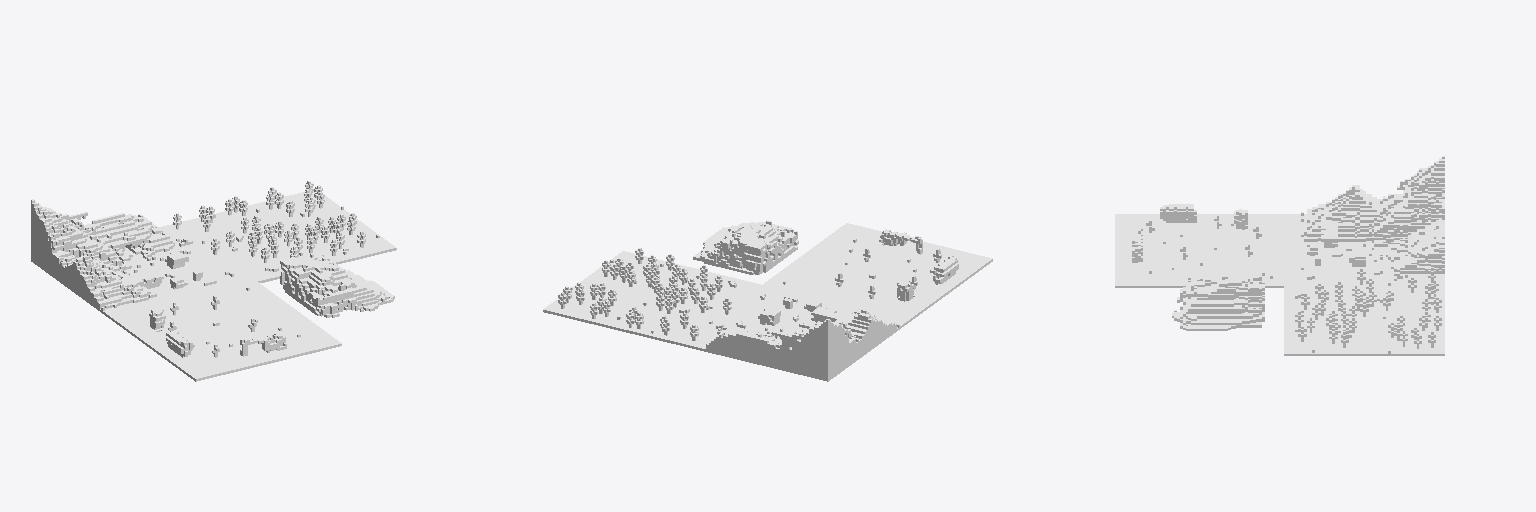
The model's file is biomes.obj.
The picture shows the model from 3 angles: view 1: azimuth 30°, elevation 25°; view 2: azimuth 150°, elevation 25°; view 3: azimuth 270°, elevation 25°; orthographic projection.
Bounding box in the file's own units: 117 × 24 × 117.